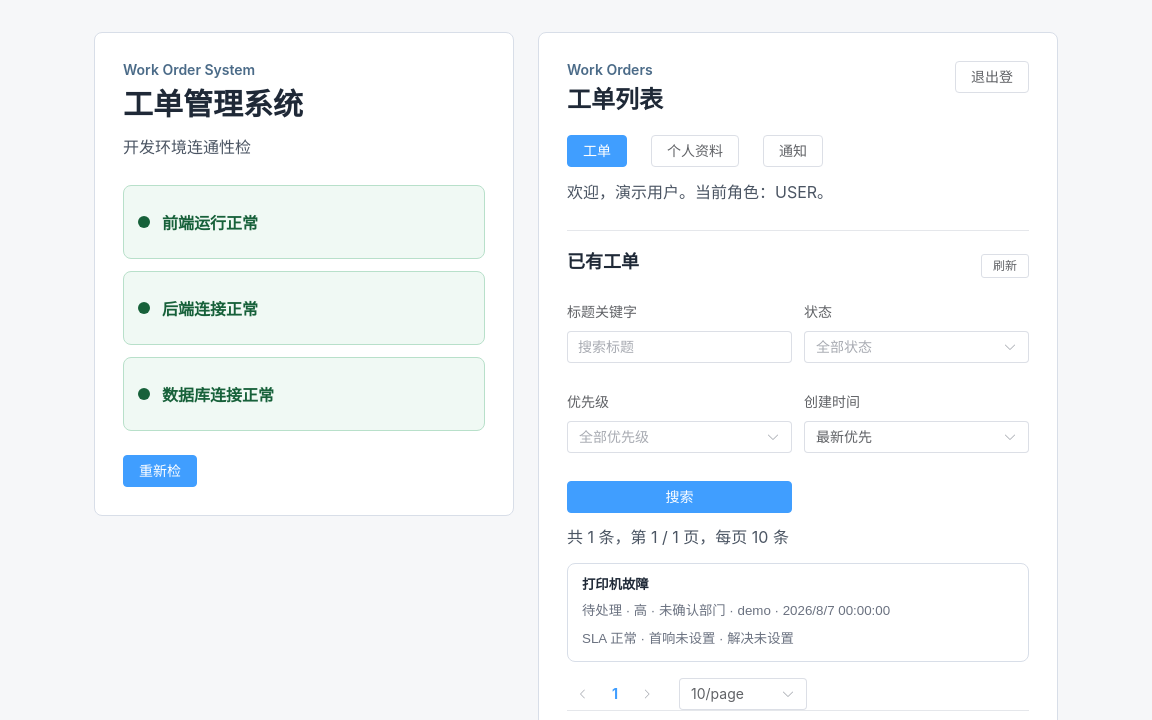
Test: App › opens work order detail from the list and shows all fields
Click the button with class "work-order-item": [798, 612] box [567,563,1029,662]
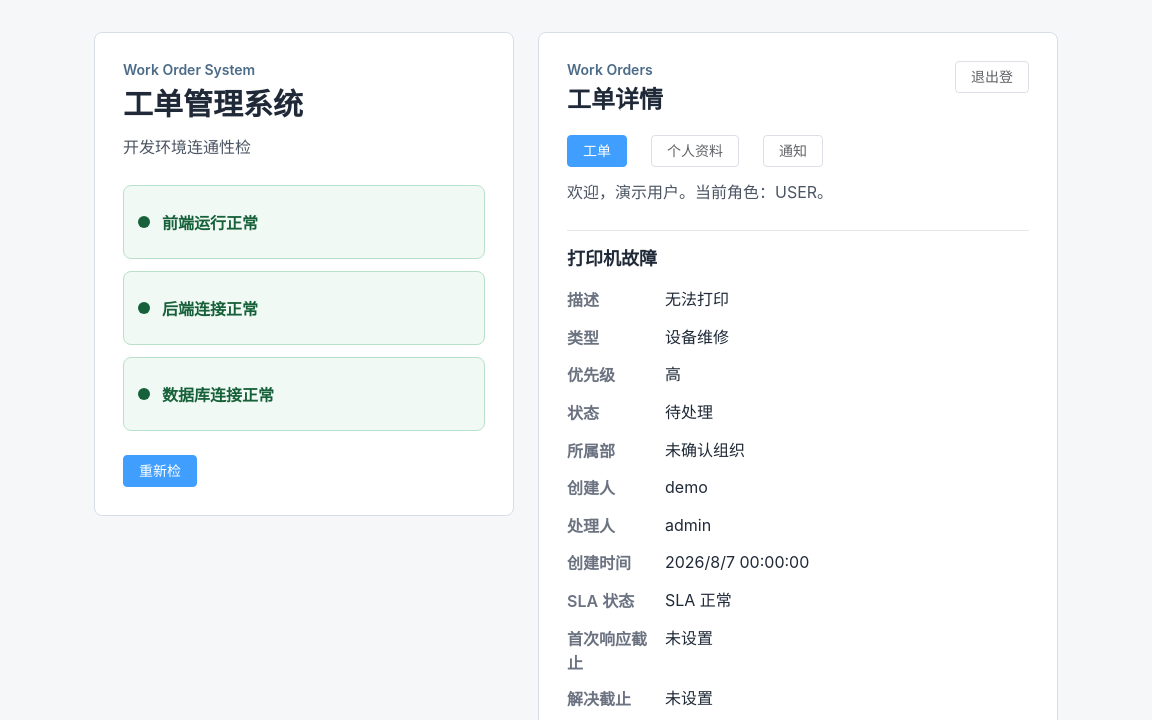
Expected: the text "打印机故障" is shown, [567,248,657,269]
Now the text "工单详情" is shown, box [567,86,663,115]
